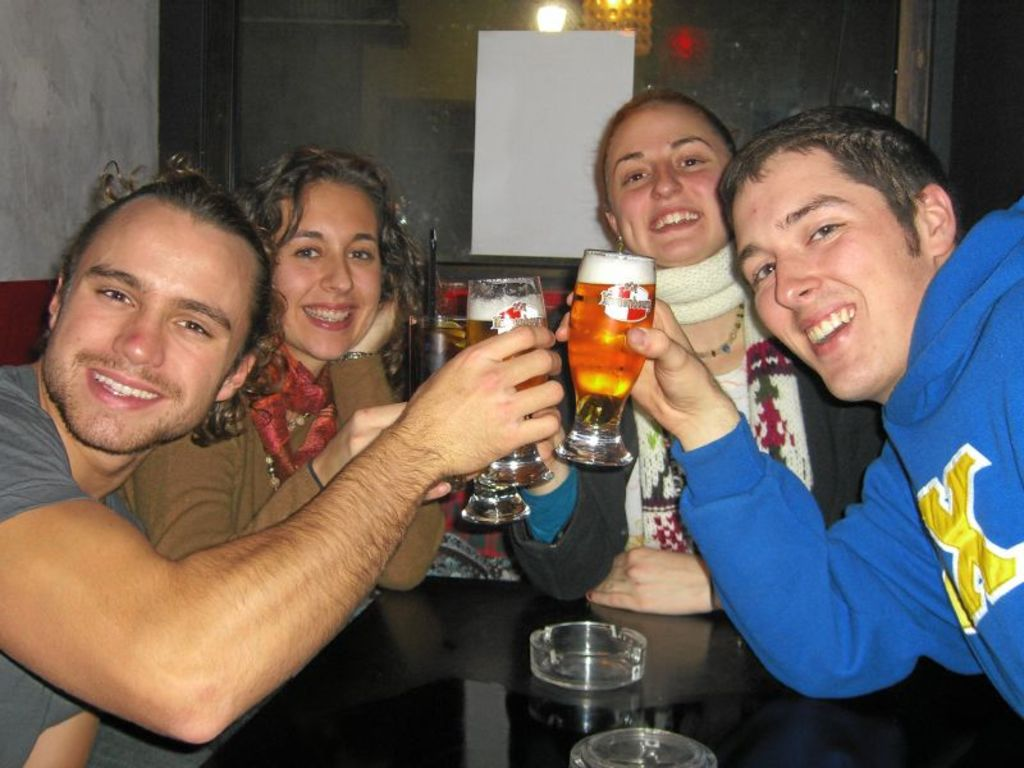Beer: (561, 258, 663, 435), (460, 299, 551, 450)
